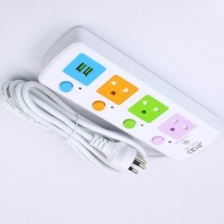three_eye_plug: (35, 24, 224, 164)
